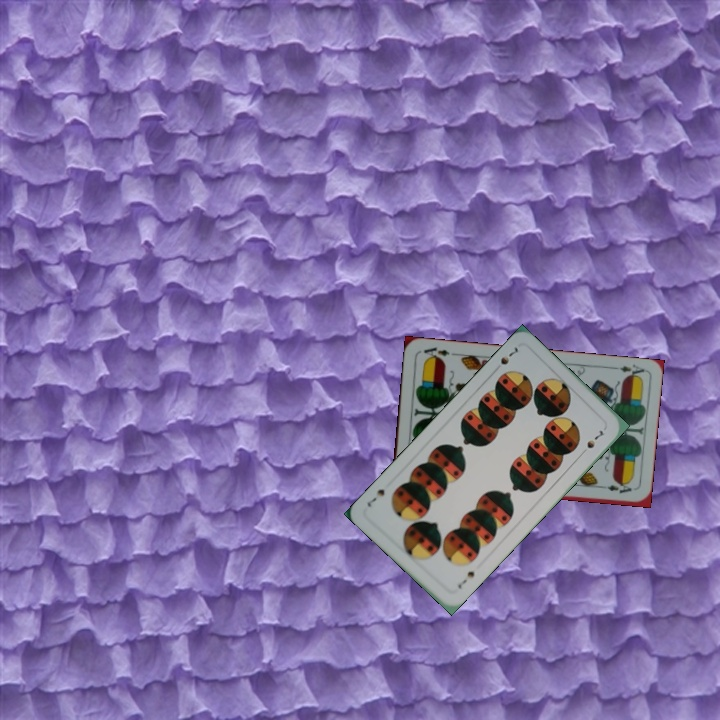EA: (606, 360, 647, 381)
S7: (496, 342, 521, 368), (453, 567, 477, 591)
